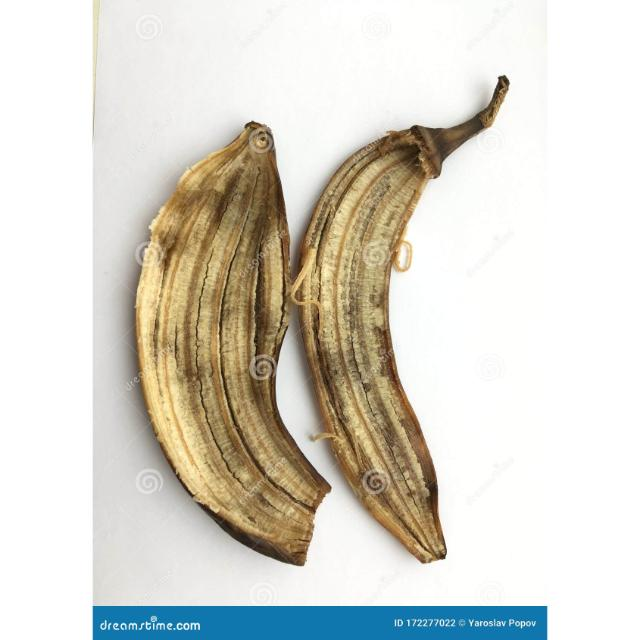organic: (135, 76, 511, 568)
